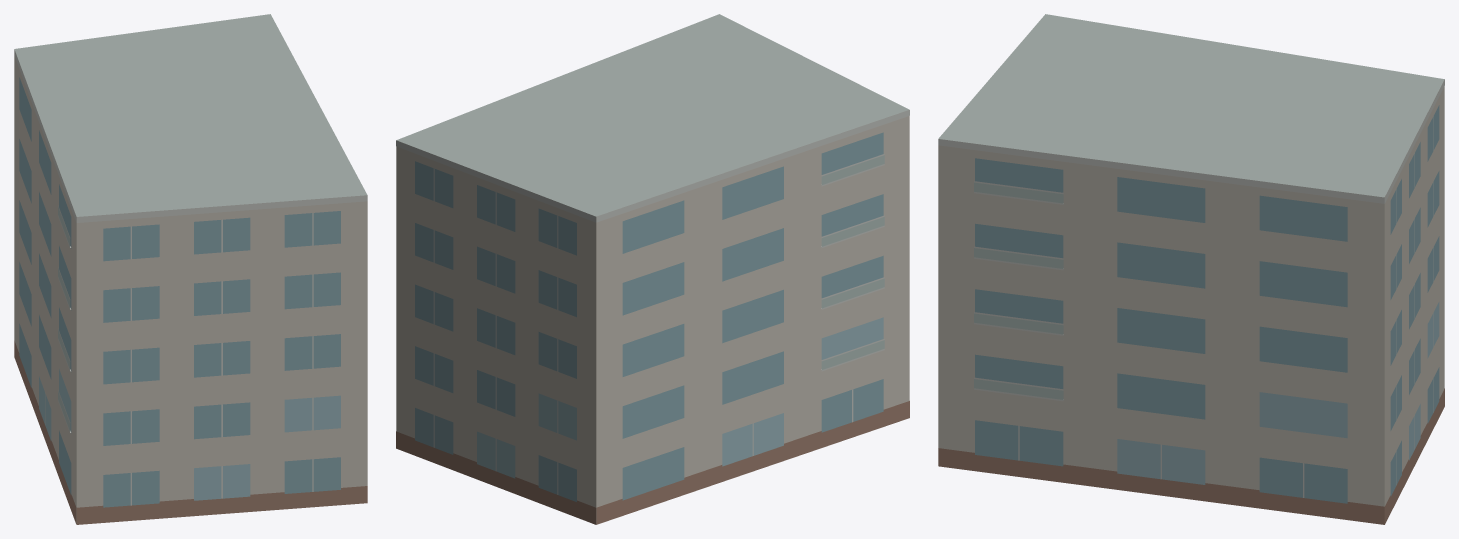
Rendered from survey-upis-32495083.glb.
3 renders of one model, left to right at view 1: azimuth 30°, elevation 25°; view 2: azimuth 150°, elevation 25°; view 3: azimuth 270°, elevation 25°, orthographic. The views are drawn at different scales.
Parts seen in each view (by area): view 1: survey-upis-32495083.tmp; view 2: survey-upis-32495083.tmp; view 3: survey-upis-32495083.tmp.
Part boxes in pixels (x1,y1,x2,y2): survey-upis-32495083.tmp: (14,14,367,524); survey-upis-32495083.tmp: (396,14,909,524); survey-upis-32495083.tmp: (938,14,1444,524).
Bounding box in the file's own units: 14.91 × 12.4 × 17.4.
